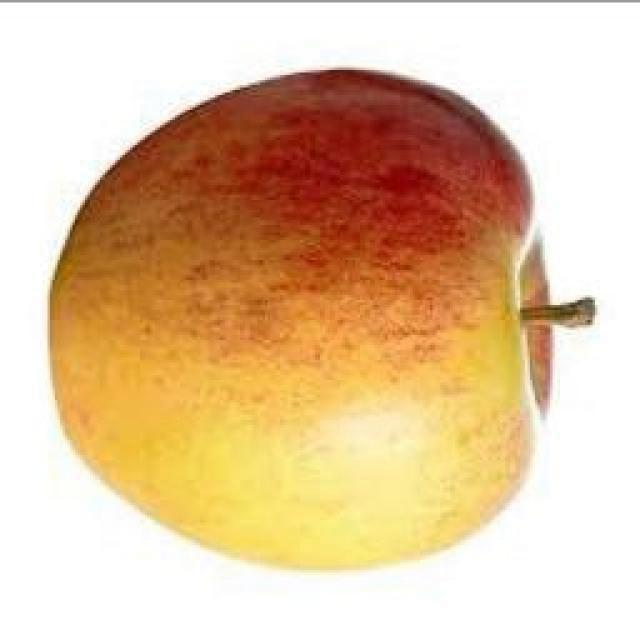Apple: (51, 70, 531, 567)
